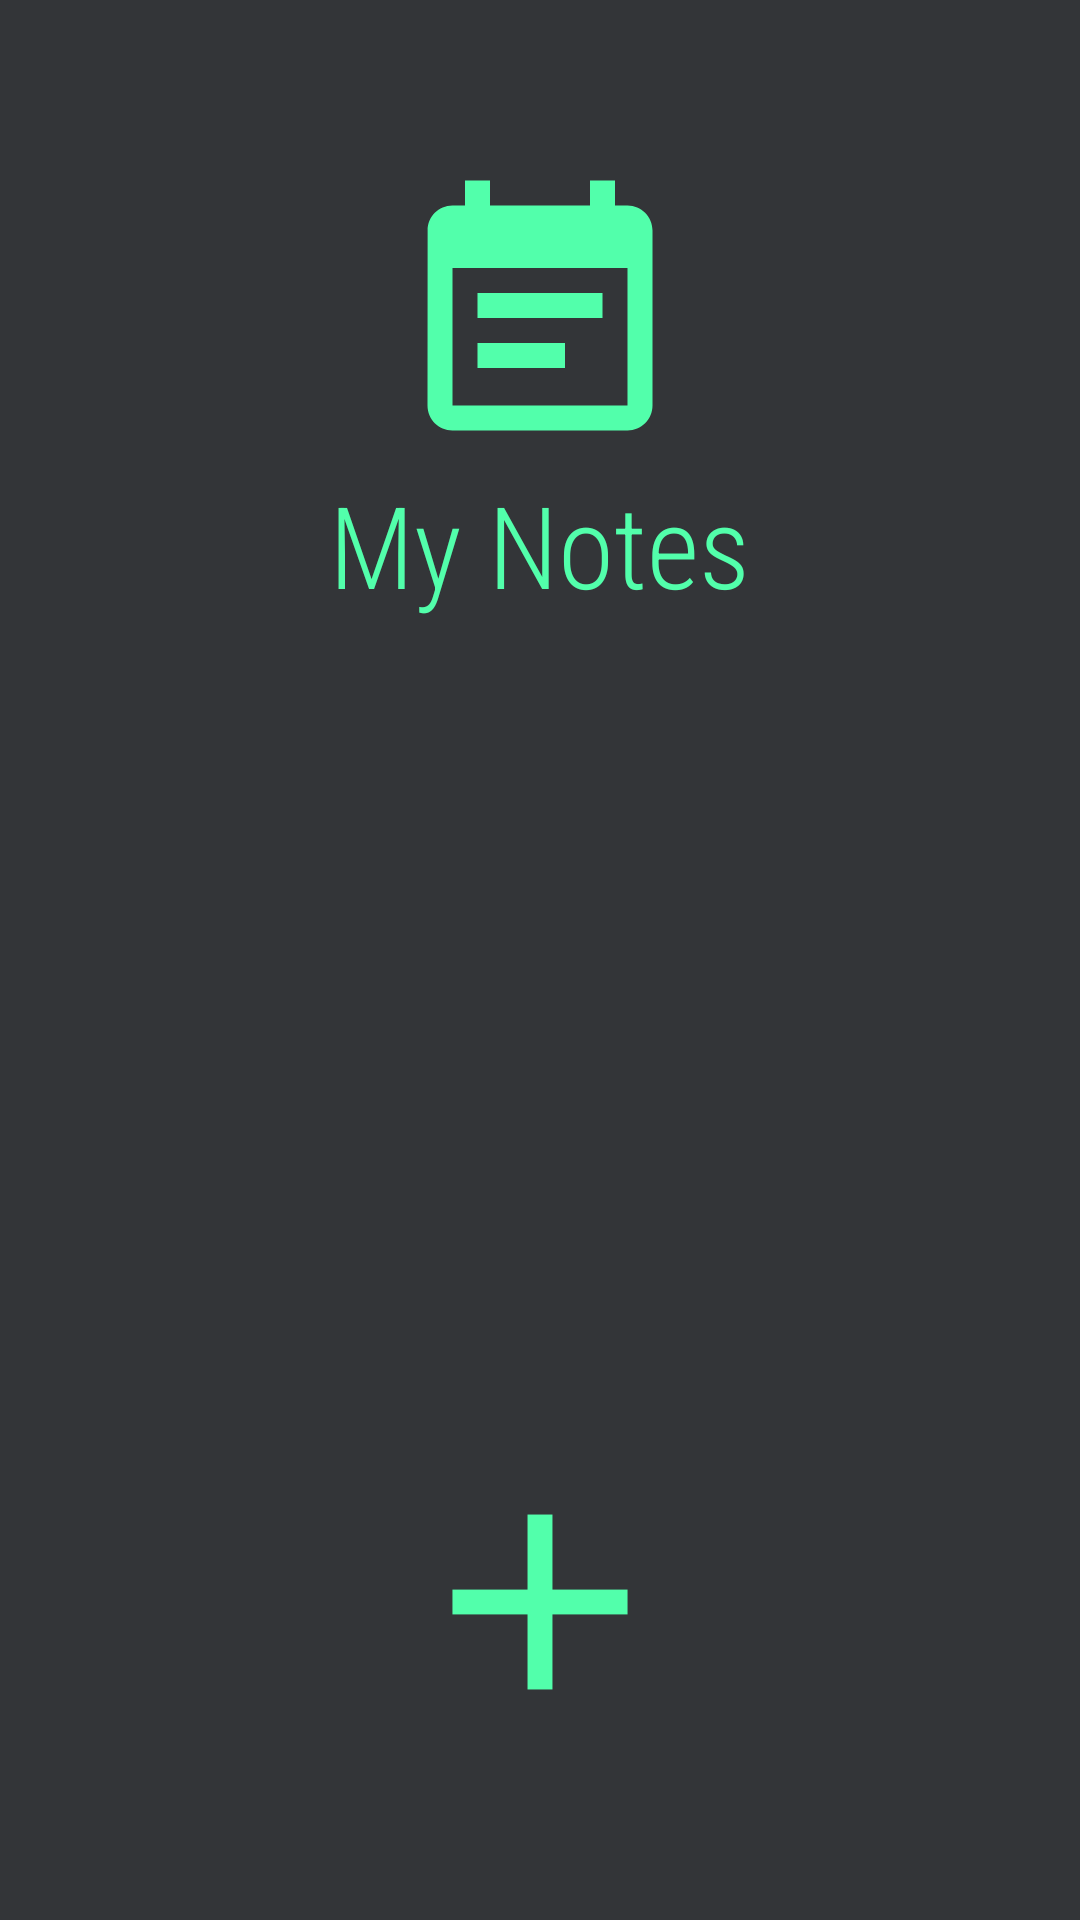

Named icons in this screenshot (1080x1920) and their bounding boxes, (x1, y1, x2, y2):
add: (452, 1514, 628, 1690)
event note: (427, 180, 653, 431)
